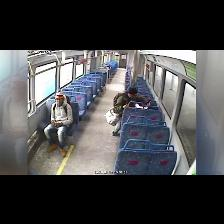person: (0, 75, 27, 172), (44, 93, 72, 157), (113, 88, 148, 135)
